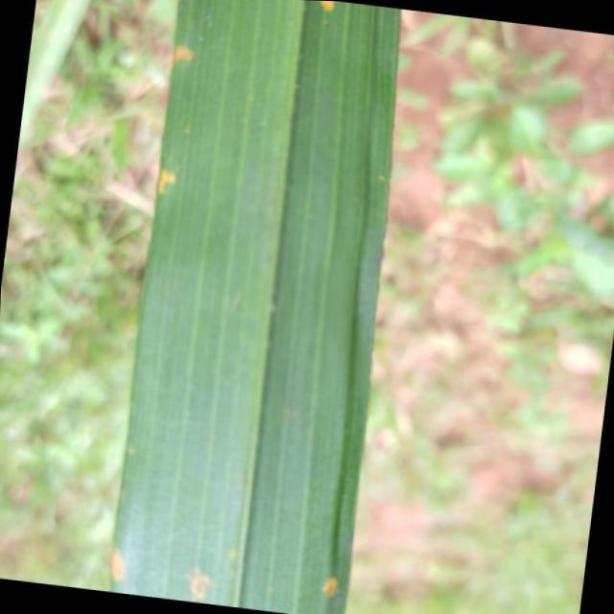Kalium: (106, 0, 400, 614)
